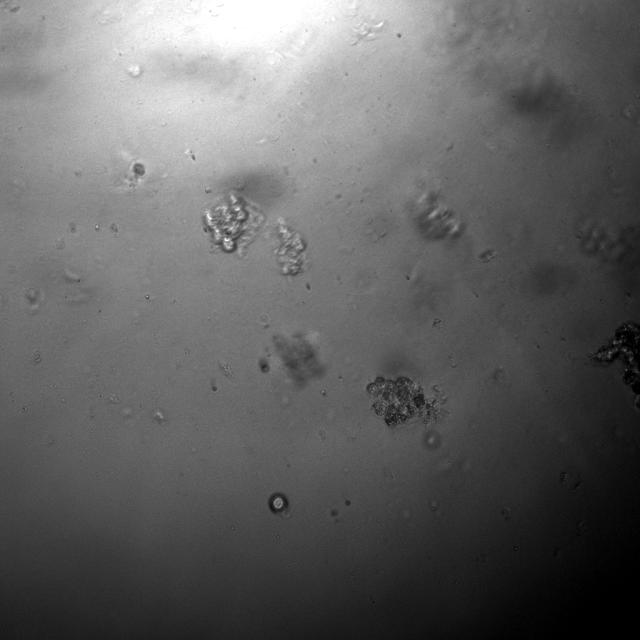organoid: (365, 376, 447, 428), (589, 320, 639, 400), (203, 190, 262, 252), (273, 218, 308, 275), (132, 162, 145, 176)
